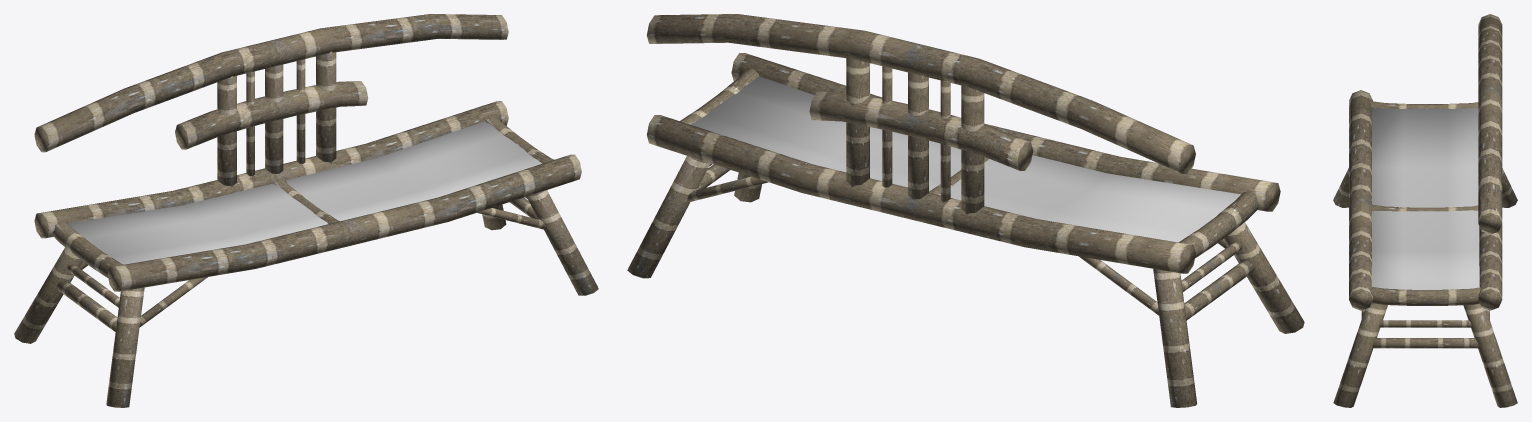
The model's file is bank.fbx.
The picture shows the model from 3 angles, left to right: view 1: azimuth 30°, elevation 25°; view 2: azimuth 150°, elevation 25°; view 3: azimuth 270°, elevation 25°; orthographic projection. The views are drawn at different scales.
Visible parts, largest first — view 1: Mesh; view 2: Mesh; view 3: Mesh.
Boxes of the visible parts, x1,y1,x2,y2 form: Mesh: [14, 14, 598, 407]; Mesh: [627, 14, 1304, 407]; Mesh: [1333, 14, 1517, 407].
Size of the model in its own units: 292 by 142 by 108.
